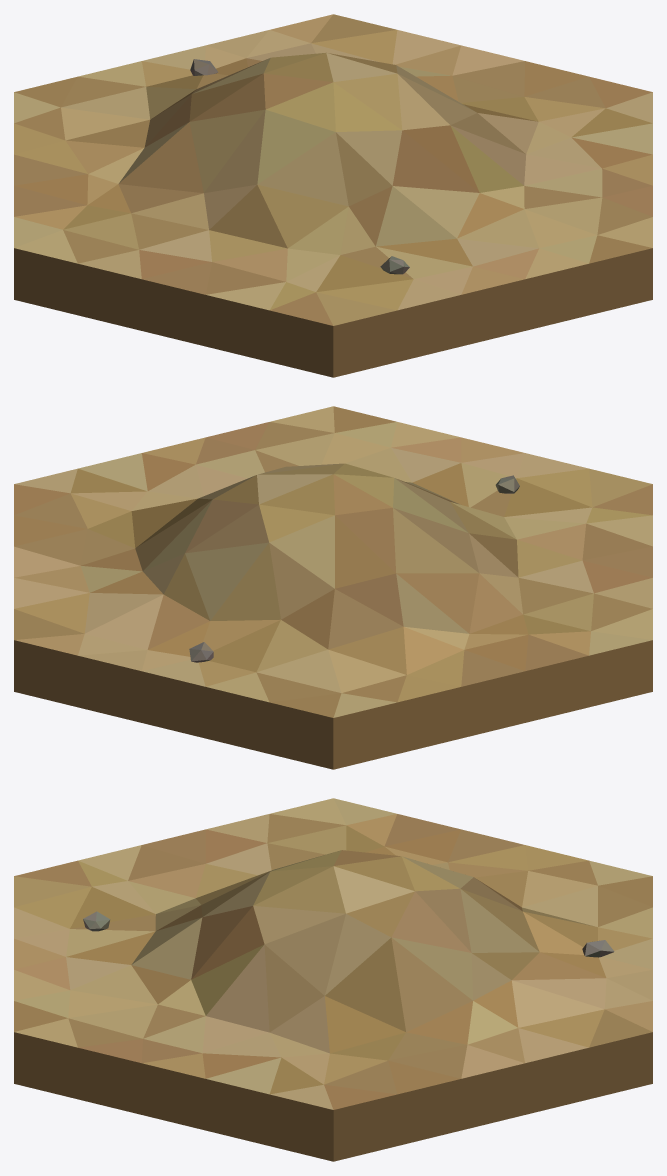
Rendered from Desert Hill2.glb.
3 renders of one model, top to bottom at view 1: azimuth 30°, elevation 25°; view 2: azimuth 150°, elevation 25°; view 3: azimuth 270°, elevation 25°, orthographic.
Parts seen in each view (by area): view 1: Desert Hill2; view 2: Desert Hill2; view 3: Desert Hill2.
Boxes of the visible parts, x1,y1,x2,y2 form: Desert Hill2: (14, 14, 652, 377); Desert Hill2: (14, 406, 652, 769); Desert Hill2: (14, 798, 652, 1161).
Size of the model in its own units: 1.94 by 0.4052 by 1.68.
